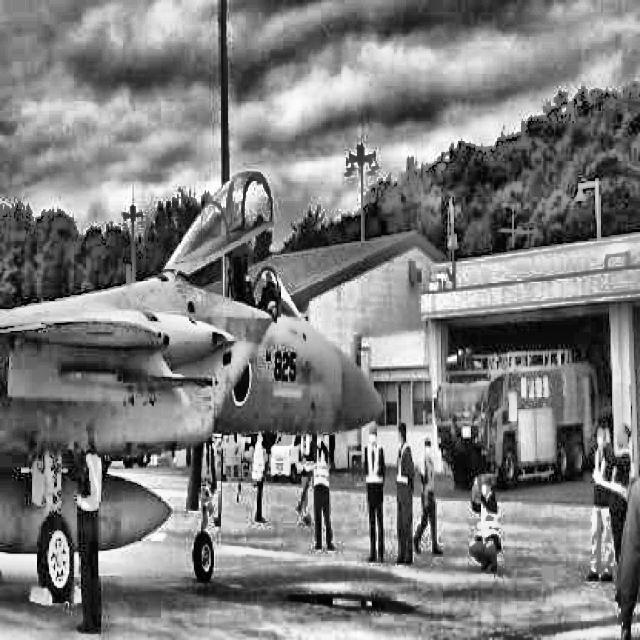F15: (1, 168, 385, 603)
